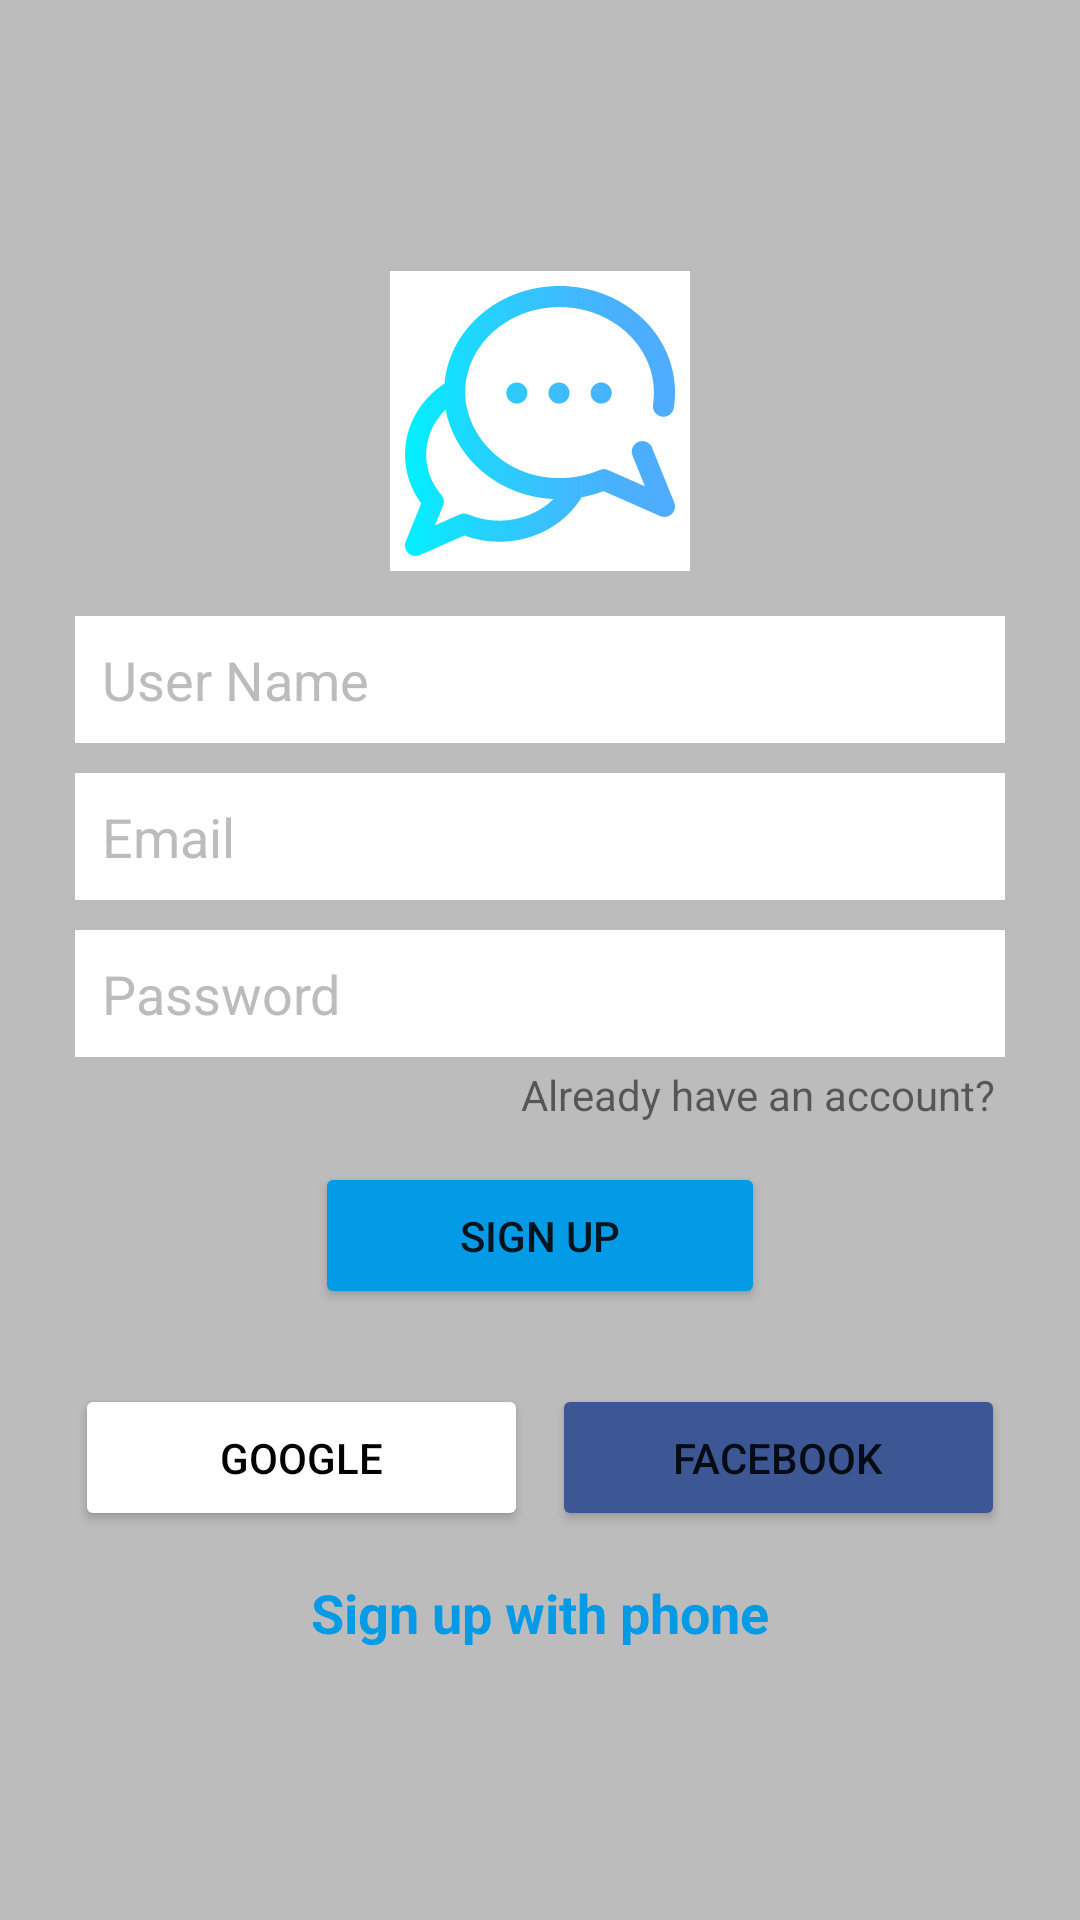

Named icons in this screenshot (1080px×1920px) and their centers, (x,y):
chat: (540,421)
